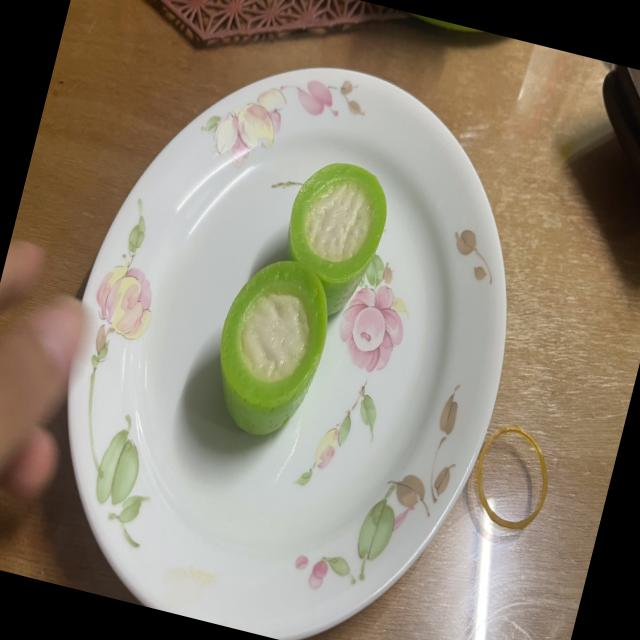nona-manis: (220, 260, 327, 435), (287, 162, 386, 315)
